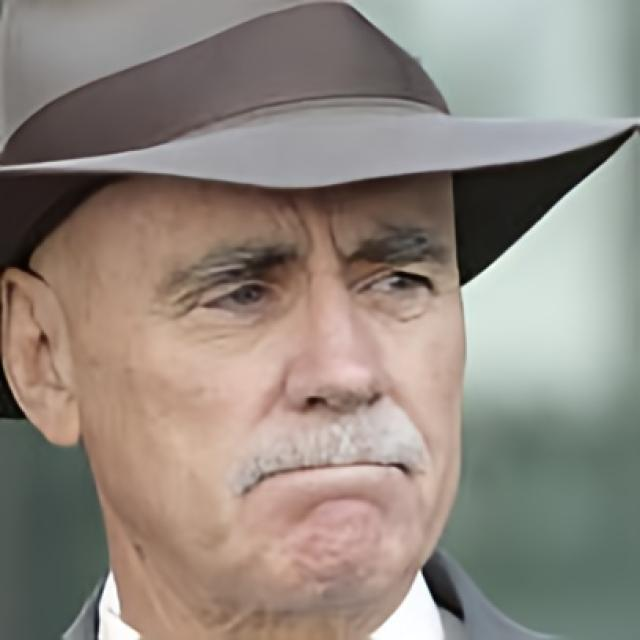sad: (31, 172, 472, 626)
